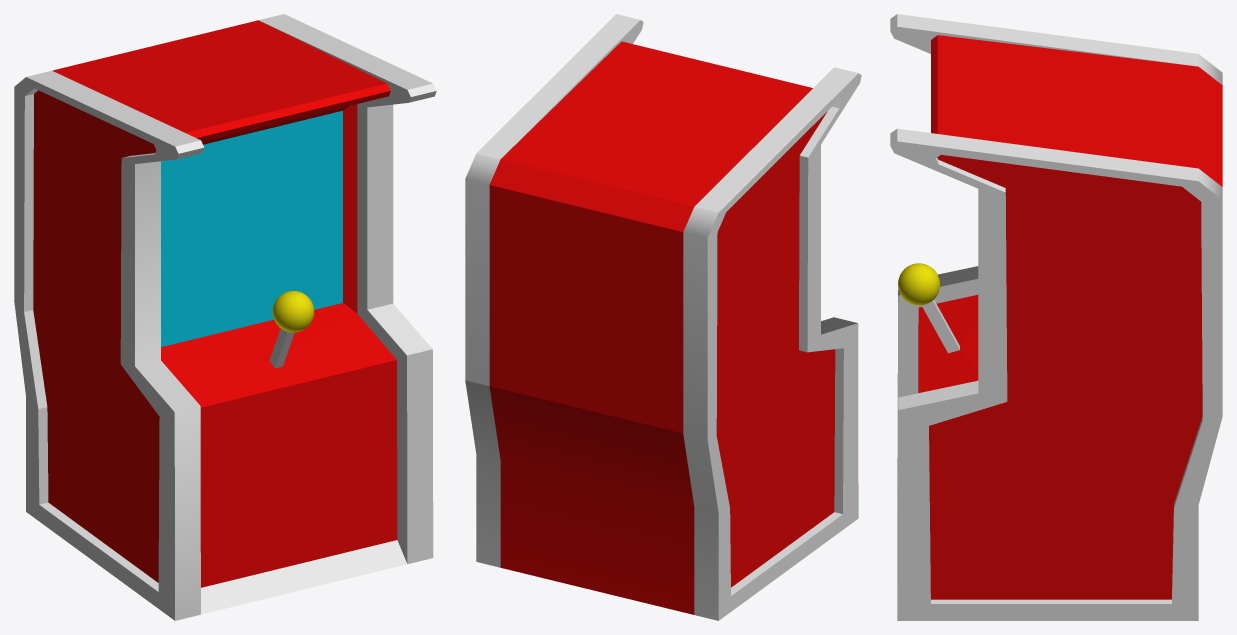
File: prp_arcade.fbx
3 views of the same model, side by side, from view 1: azimuth 30°, elevation 25°; view 2: azimuth 150°, elevation 25°; view 3: azimuth 270°, elevation 25° (orthographic). The views are drawn at different scales.
Visible parts, largest first — view 1: prp_arcade; view 2: prp_arcade; view 3: prp_arcade.
Part boxes in pixels (x1,y1,x2,y2): prp_arcade: [14, 14, 436, 620]; prp_arcade: [465, 14, 861, 620]; prp_arcade: [890, 14, 1222, 620].
Size of the model in its own units: 2.98 by 5.23 by 3.28.
